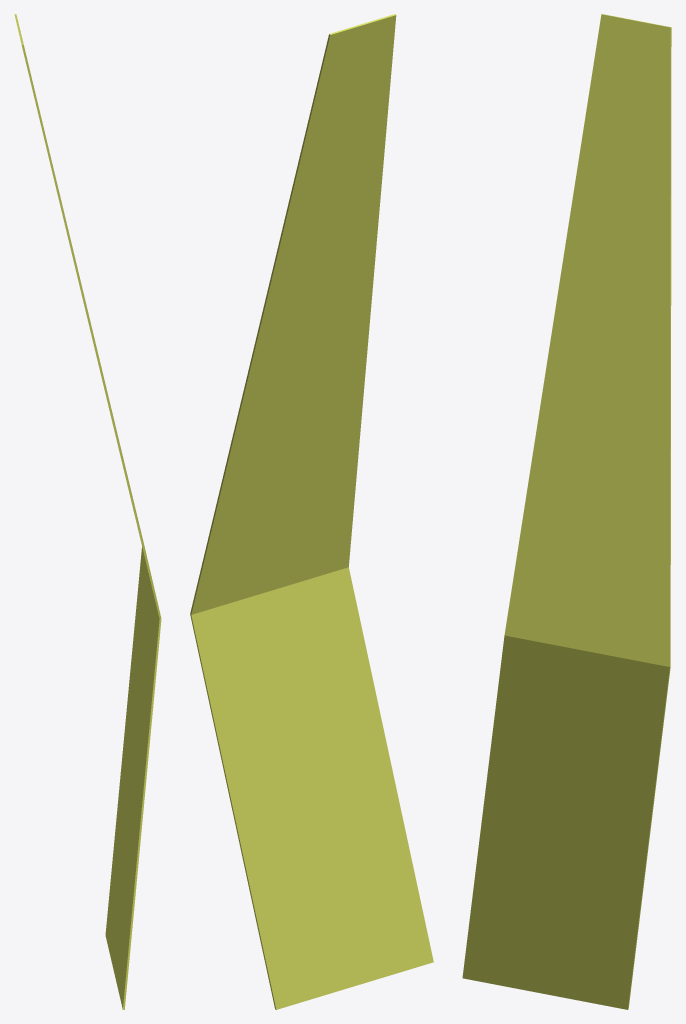
The model's file is Garass3.fbx.
3 views of the same model, side by side, from view 1: azimuth 30°, elevation 25°; view 2: azimuth 150°, elevation 25°; view 3: azimuth 270°, elevation 25° (orthographic). The views are drawn at different scales.
Visible parts, largest first — view 1: Plane.003; view 2: Plane.003; view 3: Plane.003.
Boxes of the visible parts, x1=… form: Plane.003: x1=14, y1=14, x2=161, y2=1009; Plane.003: x1=190, y1=14, x2=433, y2=1009; Plane.003: x1=462, y1=14, x2=671, y2=1009.
Size of the model in its own units: 11.78 by 66.91 by 13.38.
